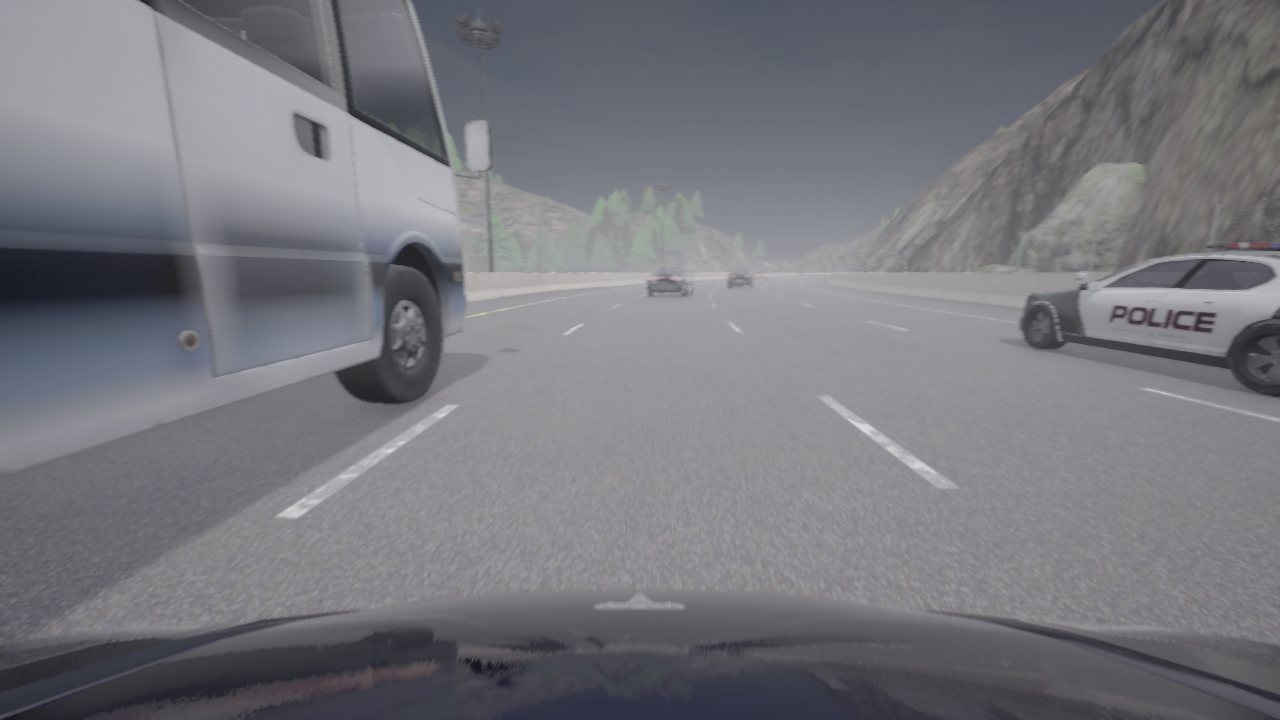cyclist: (0, 588, 1279, 719), (1018, 243, 1279, 397), (646, 266, 694, 297), (728, 268, 754, 288), (753, 270, 769, 281)
